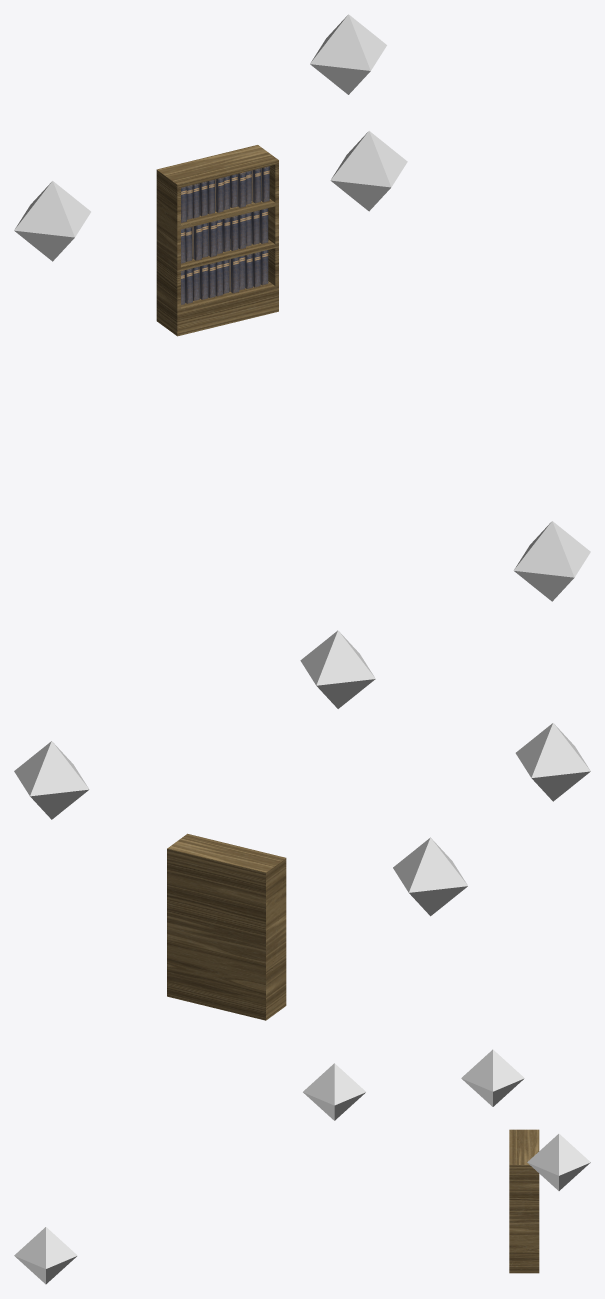
File: bookshelf.gltf
The picture shows the model from 3 angles, top to bottom: view 1: azimuth 30°, elevation 25°; view 2: azimuth 150°, elevation 25°; view 3: azimuth 270°, elevation 25°; orthographic projection. The views are drawn at different scales.
Visible parts, largest first — view 1: bookshelf, go_PlayerSpawn, l_point, l_point002, l_point001; view 2: bookshelf, l_point, l_point002, go_PlayerSpawn, l_point001; view 3: bookshelf, go_PlayerSpawn, l_point, l_point002, l_point001.
Part boxes in pixels (left/top/right/bottom): bookshelf: left=156, top=145, right=278, bottom=336; go_PlayerSpawn: left=513, top=521, right=590, bottom=601; l_point: left=330, top=131, right=407, bottom=211; l_point002: left=310, top=14, right=386, bottom=94; l_point001: left=14, top=181, right=90, bottom=261; bookshelf: left=167, top=833, right=286, bottom=1020; l_point: left=300, top=630, right=375, bottom=708; l_point002: left=14, top=741, right=89, bottom=819; go_PlayerSpawn: left=515, top=723, right=590, bottom=801; l_point001: left=393, top=837, right=467, bottom=916; bookshelf: left=509, top=1129, right=539, bottom=1273; go_PlayerSpawn: left=14, top=1227, right=77, bottom=1284; l_point: left=303, top=1063, right=365, bottom=1120; l_point002: left=527, top=1134, right=590, bottom=1190; l_point001: left=461, top=1049, right=524, bottom=1106.
Size of what is drawn, in the model's own units: 5.79 by 4.21 by 9.65.
